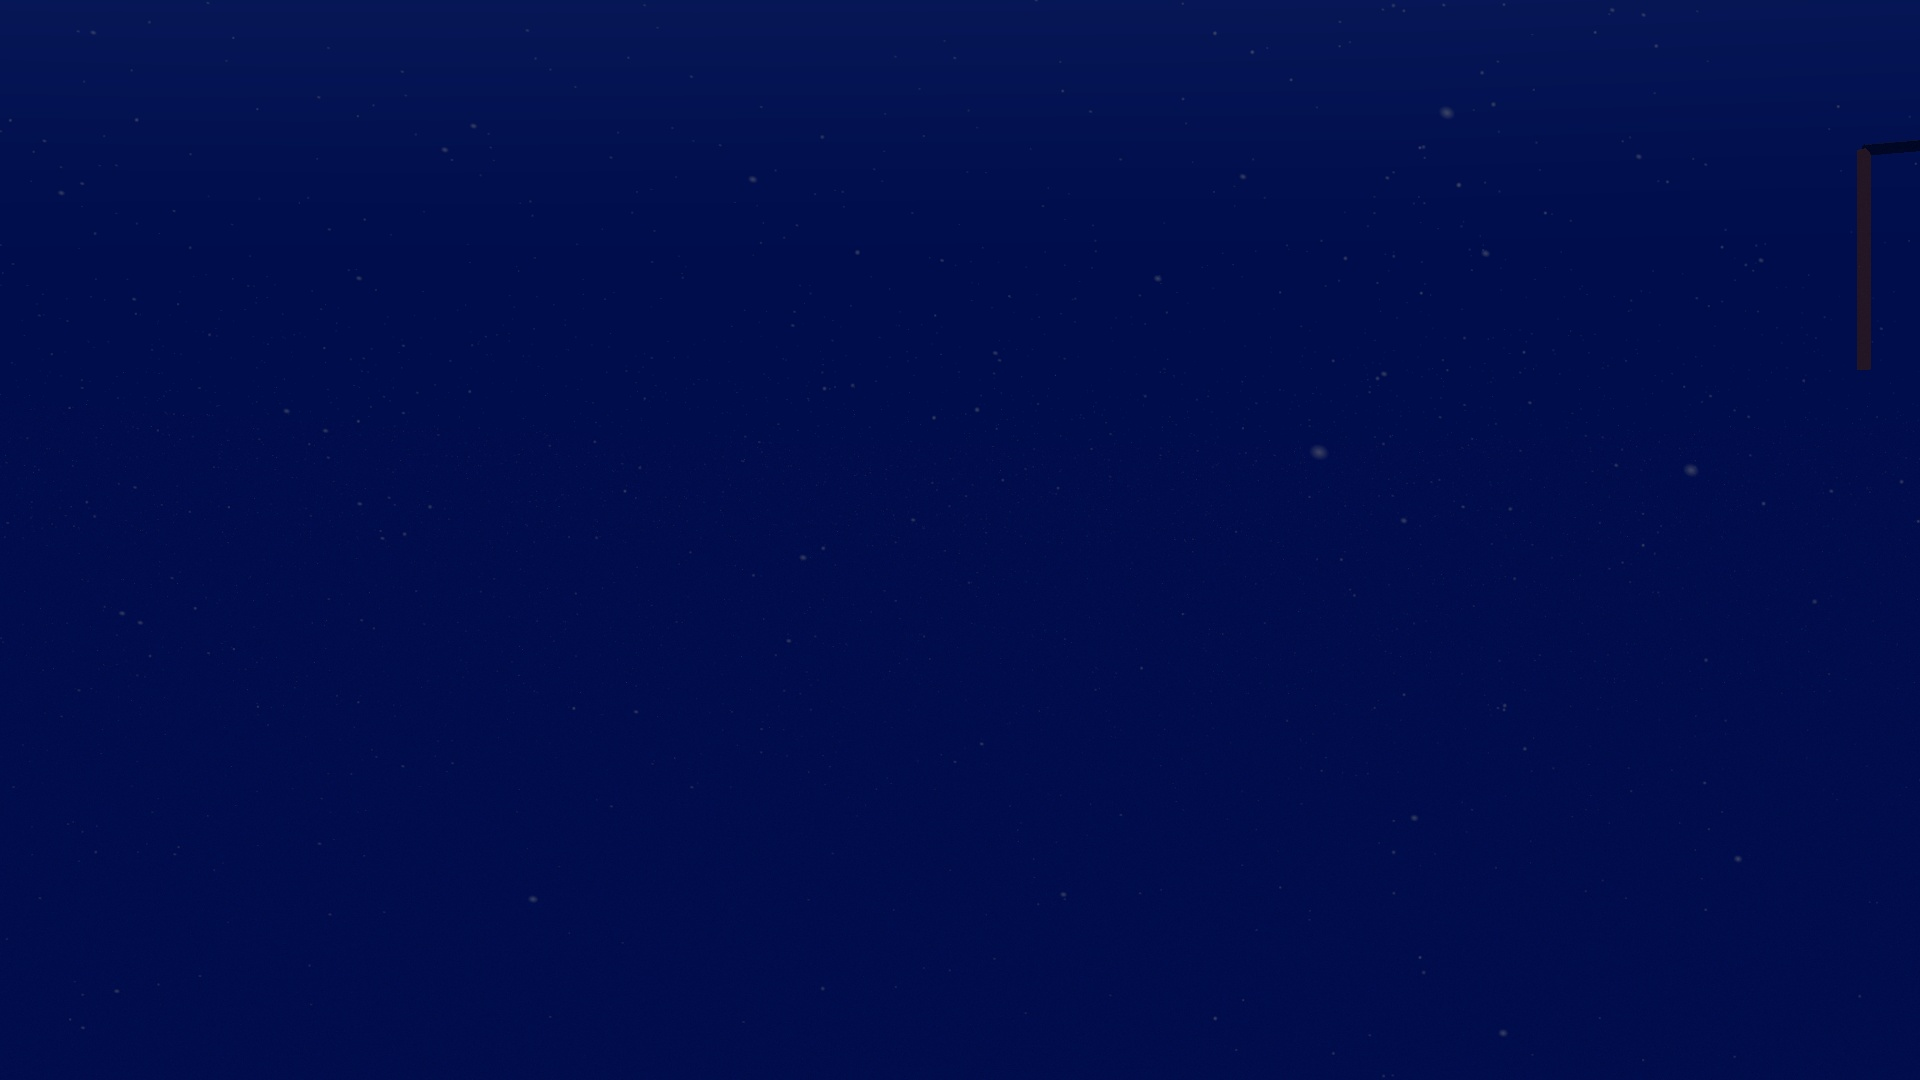Gate: (1854, 142, 1920, 375)
